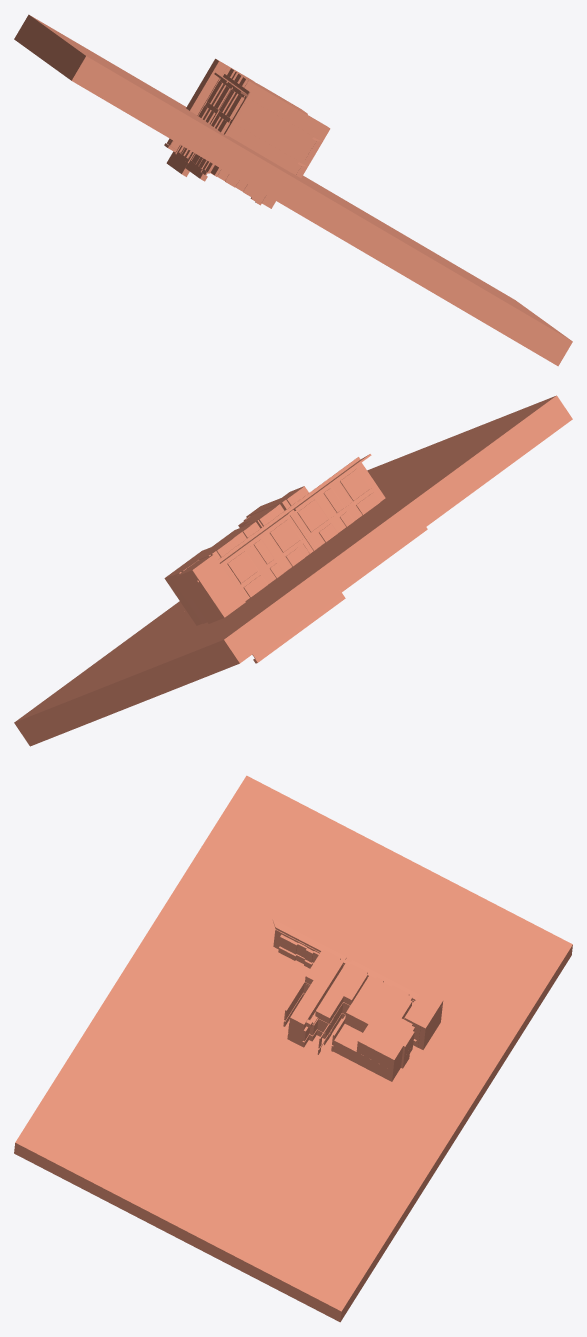
3 views of the same model, one above another, from view 1: azimuth 30°, elevation 25°; view 2: azimuth 150°, elevation 25°; view 3: azimuth 270°, elevation 25° (orthographic). The views are drawn at different scales.
Visible parts, largest first — view 1: mesh; view 2: mesh; view 3: mesh.
Boxes of the visible parts, bbox=[...] form: mesh: bbox=[14, 14, 572, 366]; mesh: bbox=[14, 395, 572, 746]; mesh: bbox=[14, 775, 572, 1322].
Bounding box in the file's own units: 60.11 × 48.67 × 69.44.
